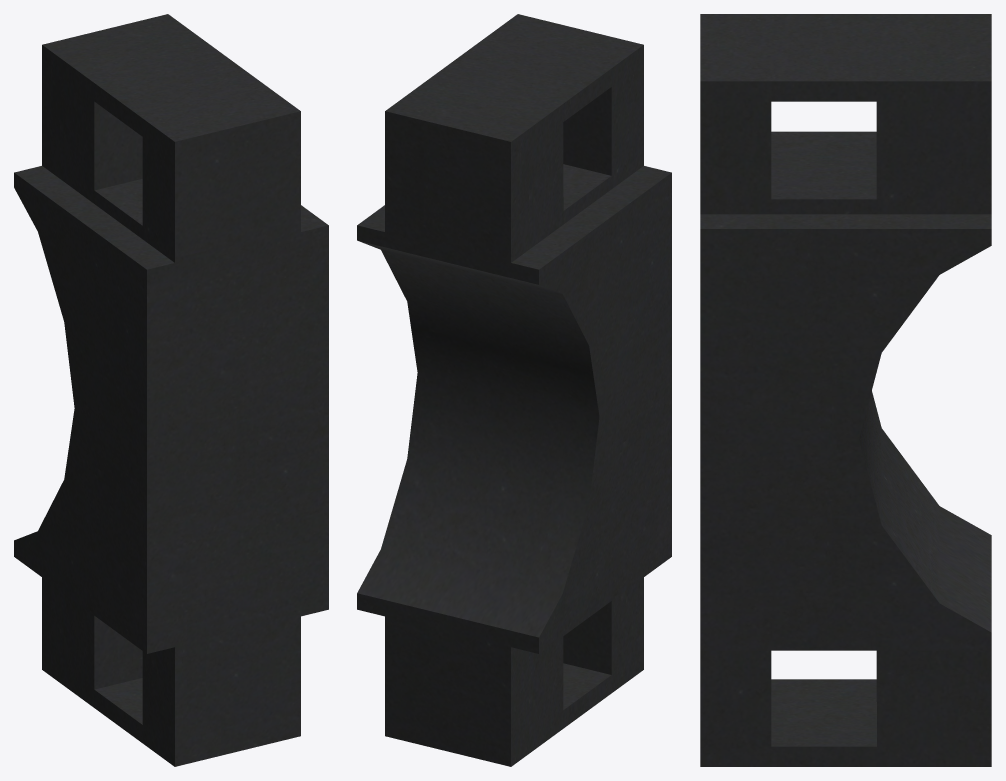
File: Synchro_Clamp.dae
The picture shows the model from 3 angles, left to right: view 1: azimuth 30°, elevation 25°; view 2: azimuth 150°, elevation 25°; view 3: azimuth 270°, elevation 25°; orthographic projection. The views are drawn at different scales.
Parts seen in each view (by area): view 1: Synchro_Clamp; view 2: Synchro_Clamp; view 3: Synchro_Clamp.
Part boxes in pixels (<box>): Synchro_Clamp: <box>14,14,328,766</box>; Synchro_Clamp: <box>357,14,671,766</box>; Synchro_Clamp: <box>700,14,991,766</box>.
Bounding box in the file's own units: 0.009 × 0.0114 × 0.0296.
1 material, 1 textured.
